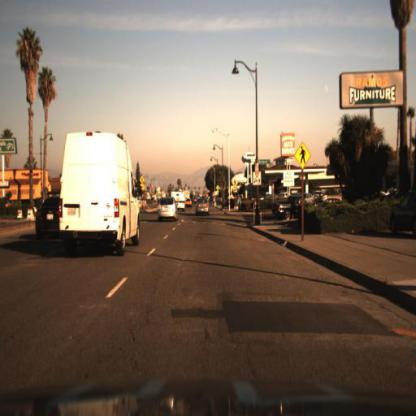car: (60, 132, 144, 260), (34, 194, 67, 247), (271, 194, 309, 223), (272, 195, 307, 226), (157, 197, 181, 226), (195, 194, 213, 221), (171, 190, 188, 215), (189, 193, 201, 211)
pedestrian: (237, 195, 244, 217)
truck: (55, 129, 138, 262)
